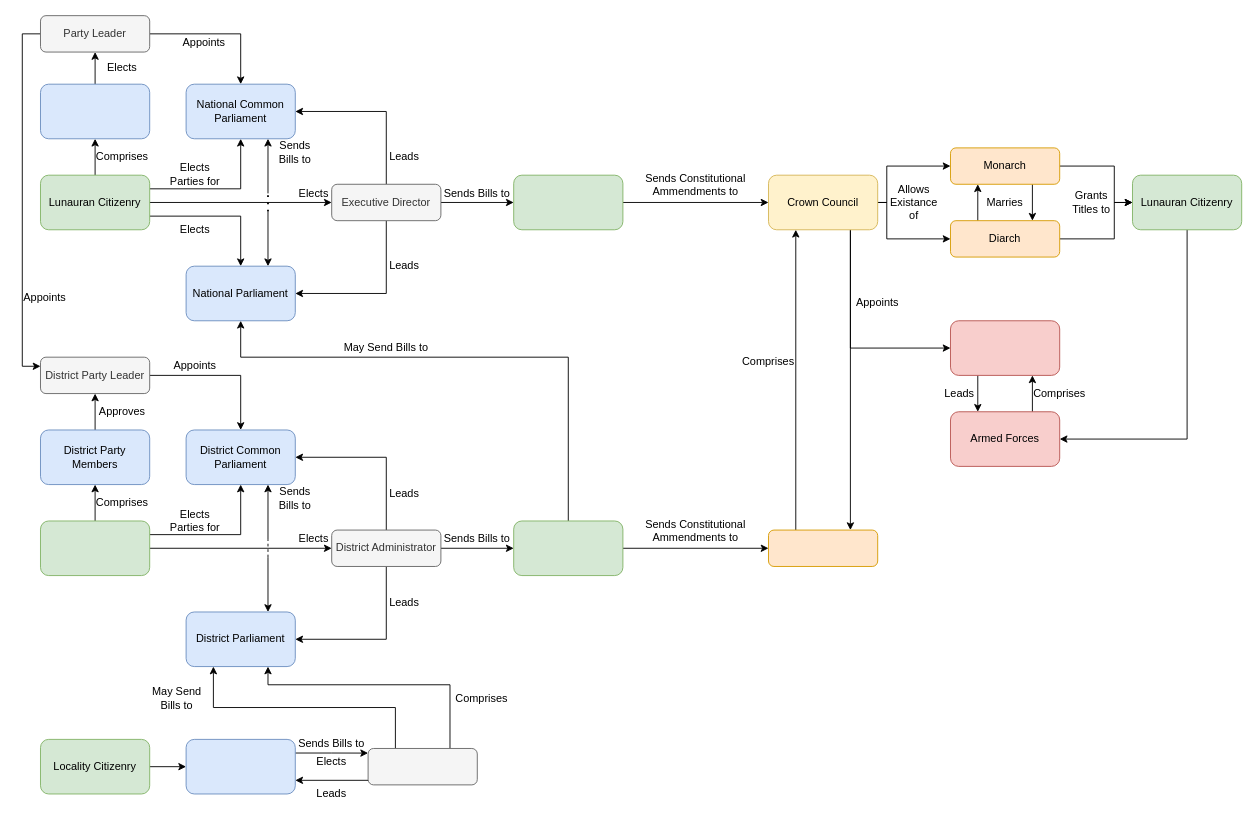
Image size: 1258x819. Some labels were removed from this diagram. Each missing label, with the box of its shape:
Crown Regent: (768, 529, 878, 566)
District Citizenry: (40, 520, 150, 576)
District People's Parliament: (513, 520, 623, 576)
Locality Council: (185, 738, 295, 794)
Locality Governer: (367, 748, 477, 785)
National People's Parliament: (513, 174, 623, 230)
Party Members: (40, 83, 150, 139)
Strategic Council: (950, 320, 1060, 375)
